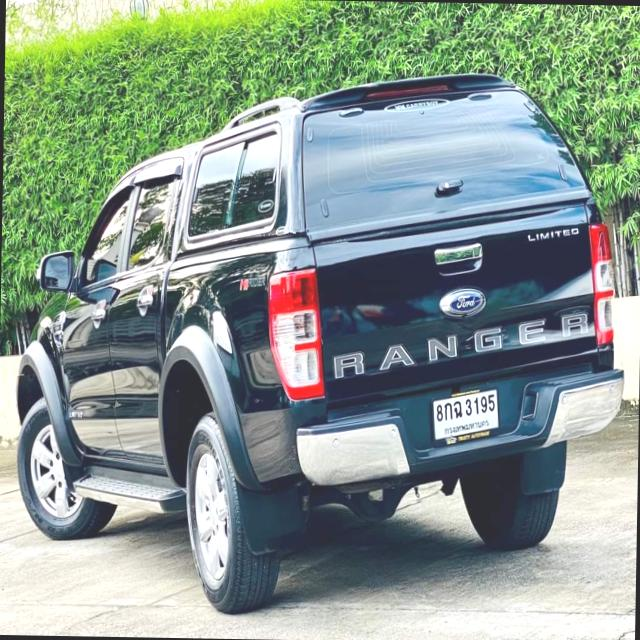license_plate: (426, 384, 506, 449)
